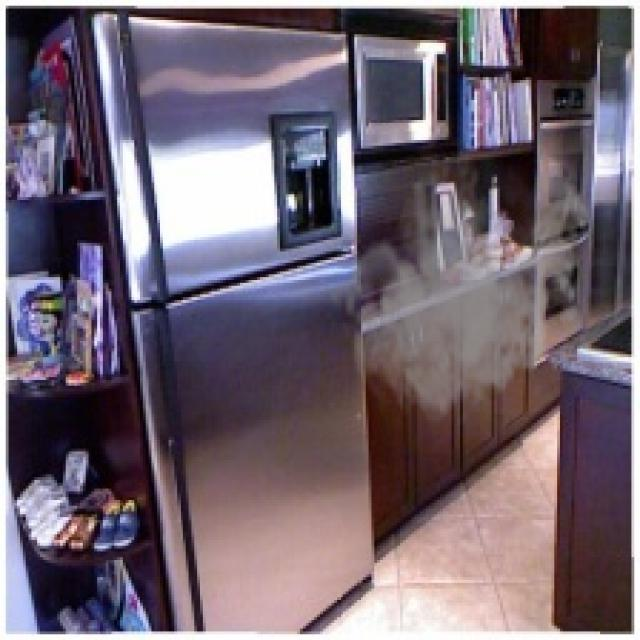smoke: (326, 143, 594, 426)
